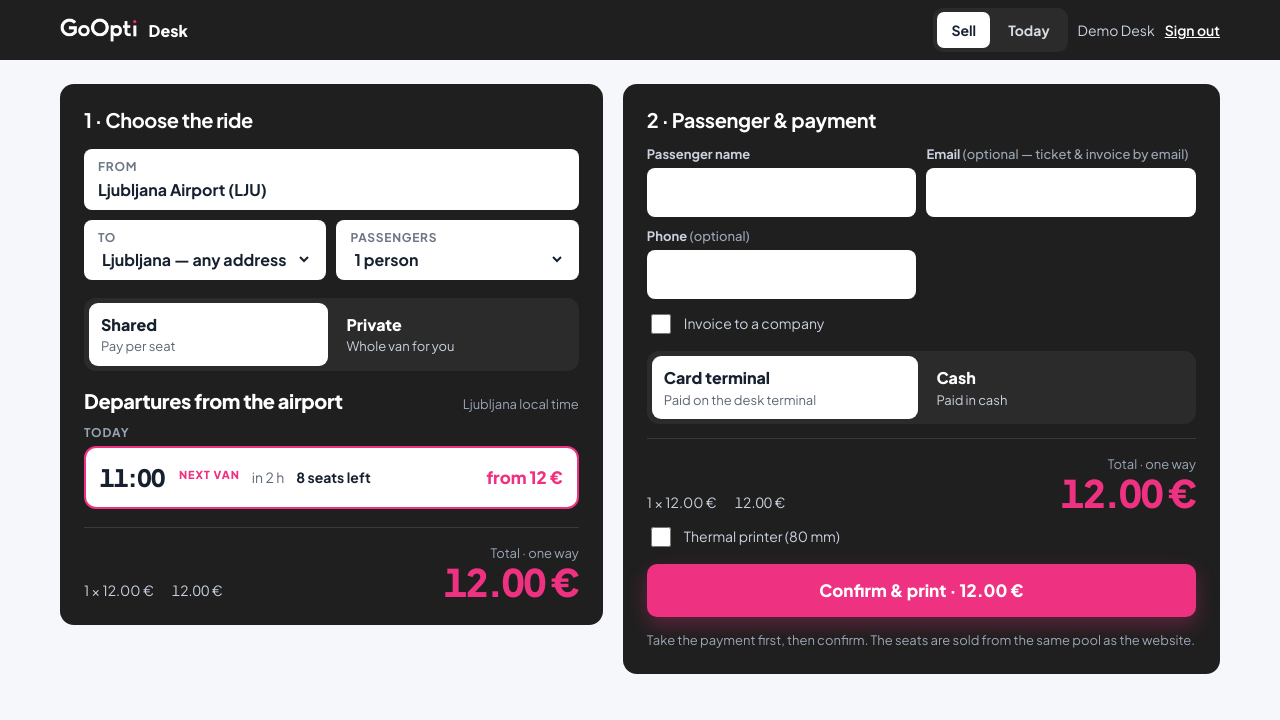
Test case: passenger name is required; email optional; card is the default payment
The width and height of the screenshot is (1280, 720).
Check: the button "11:00 Next van in 2 h 8 seats left from 12 €" is shown, box x1=84 y1=446 x2=579 y2=509
Check: the radio button labelled "Card terminal" is checked, box x1=652 y1=356 x2=918 y2=419
What coordinates should you click on to do the following:
click the button "Confirm & print · 12.00 €"
I would click on:
 (921, 590)
Its box is x1=647 y1=564 x2=1196 y2=617.
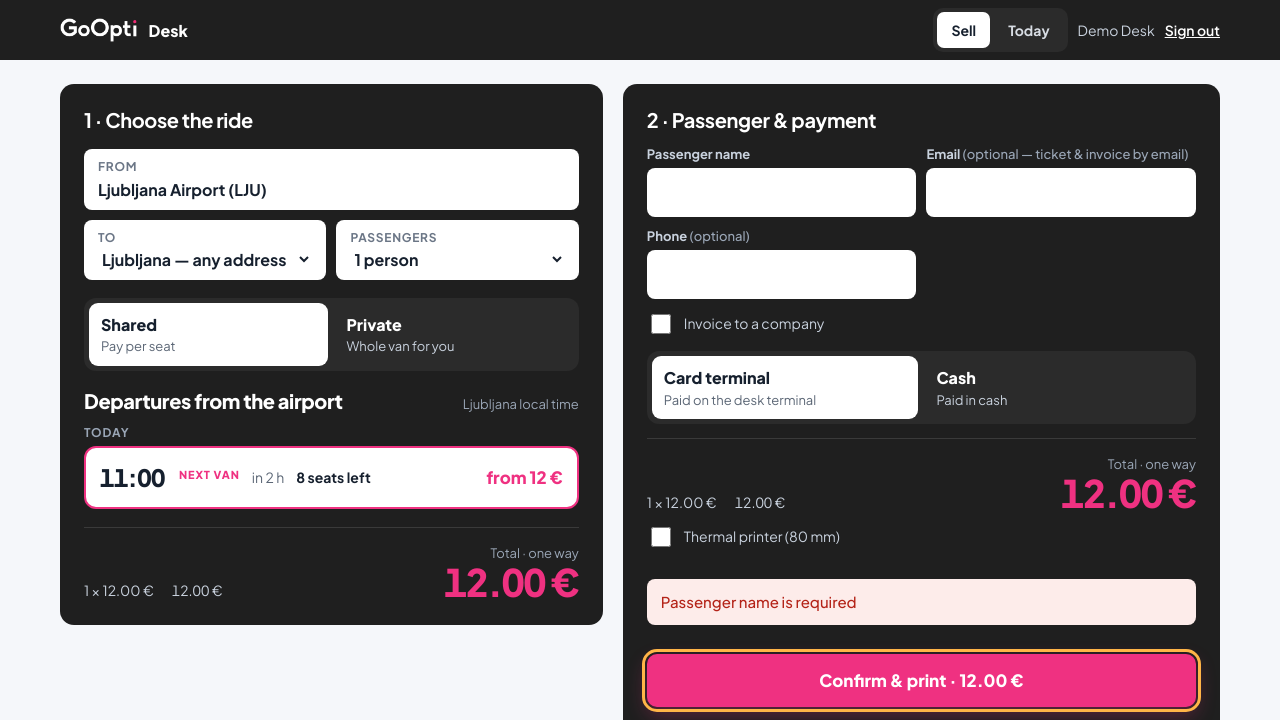
Check: the text "Passenger name is required" is shown, box x1=647 y1=579 x2=1196 y2=625
